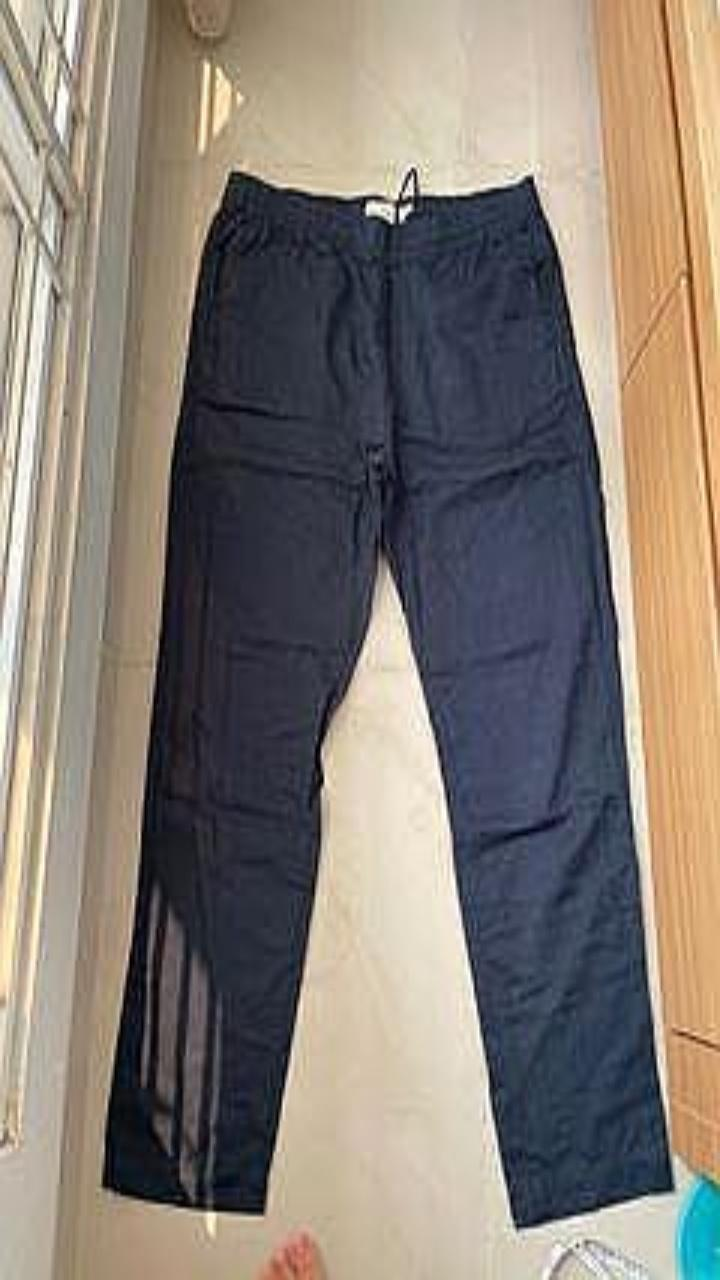Jeans: (103, 171, 672, 1225)
